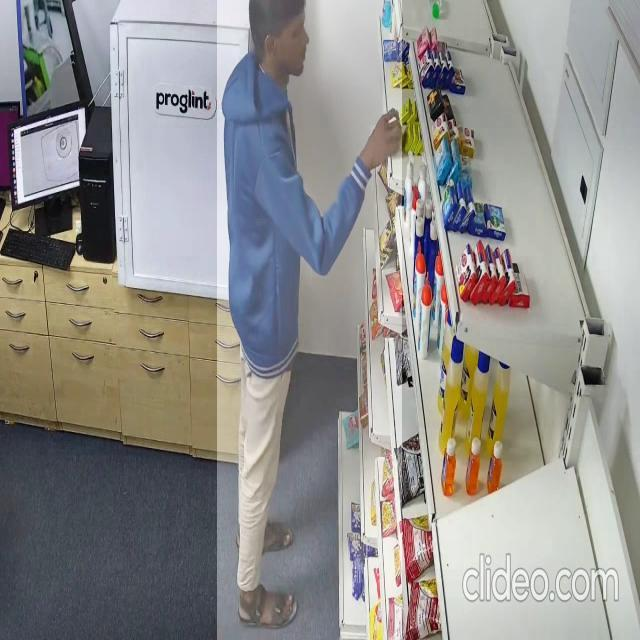normal: (217, 0, 402, 640)
